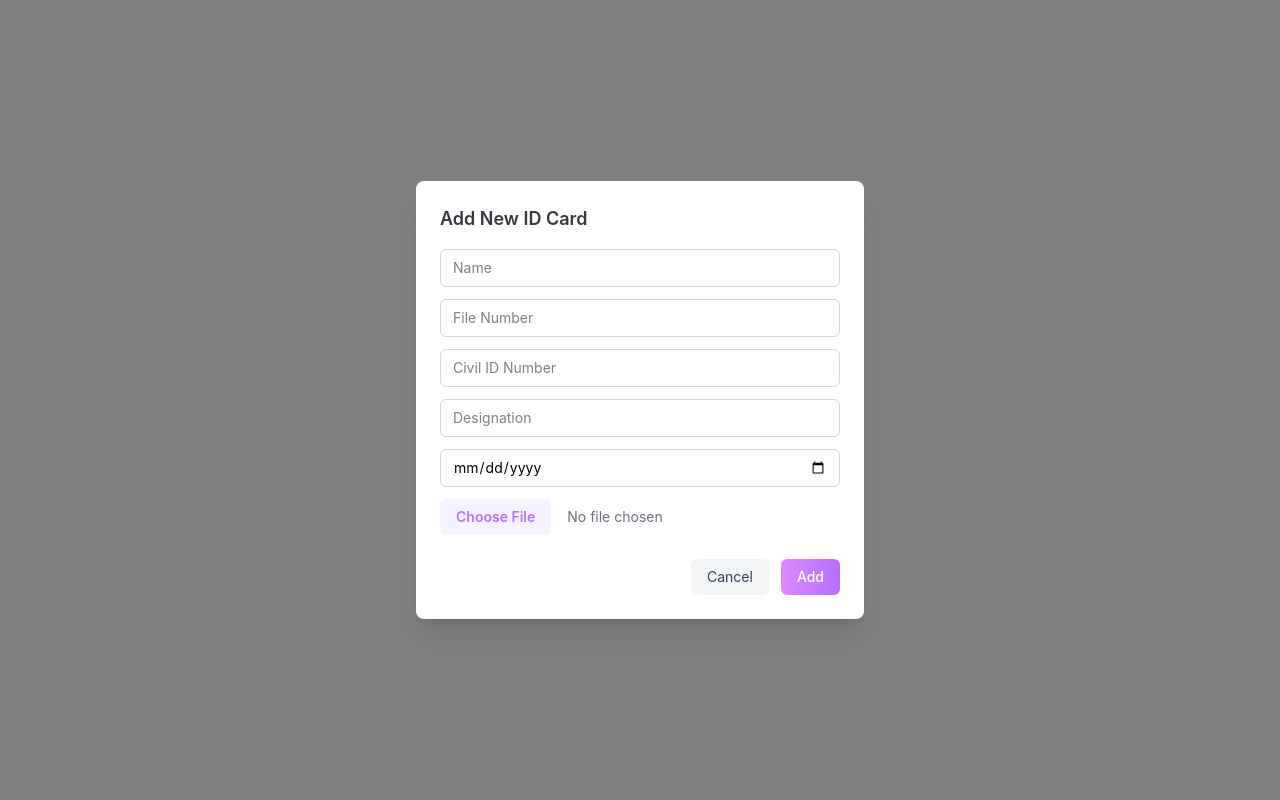
Test: AddIdCardModal Component › Form Validation › shows error when required fields are empty
Click the button "Add" at (810, 577), box [781,559,840,595]
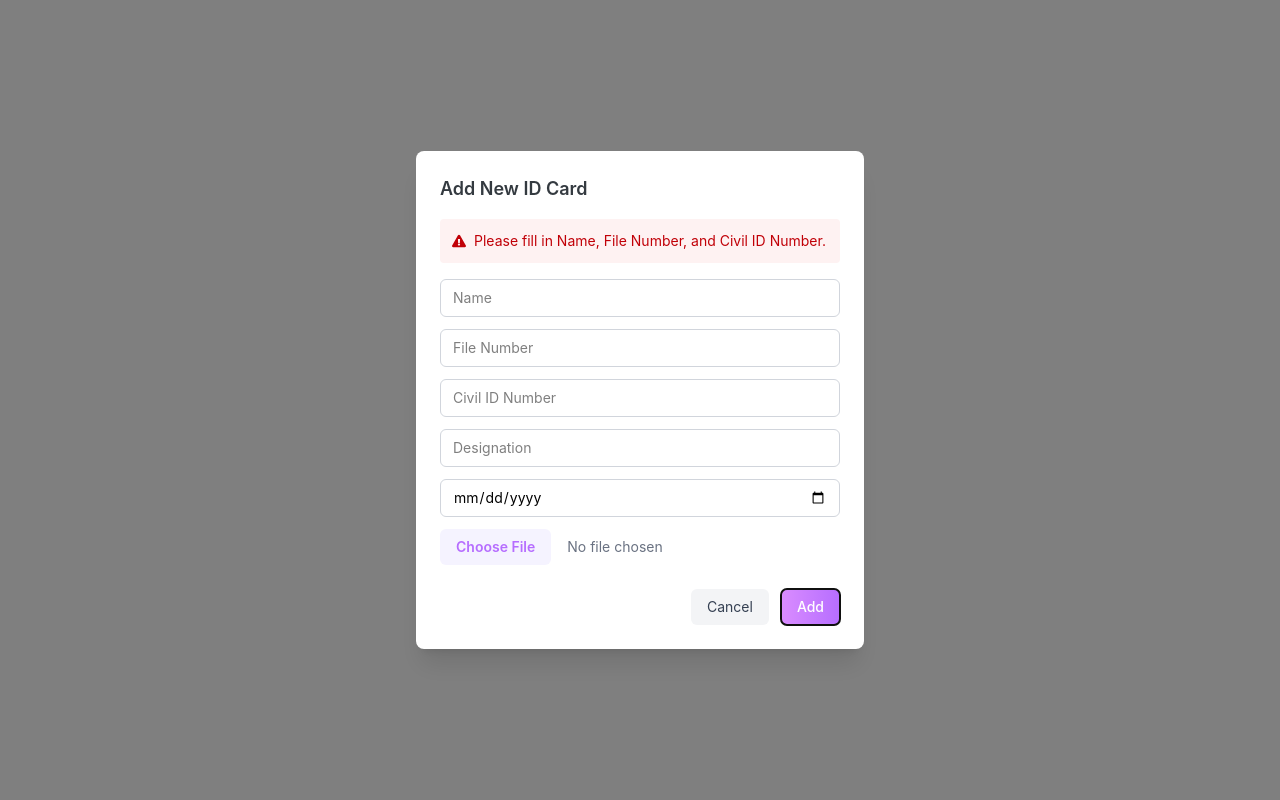
Now the text "Please fill in Name, File Number, and Civil ID Number." is shown, box [474,231,826,251]
